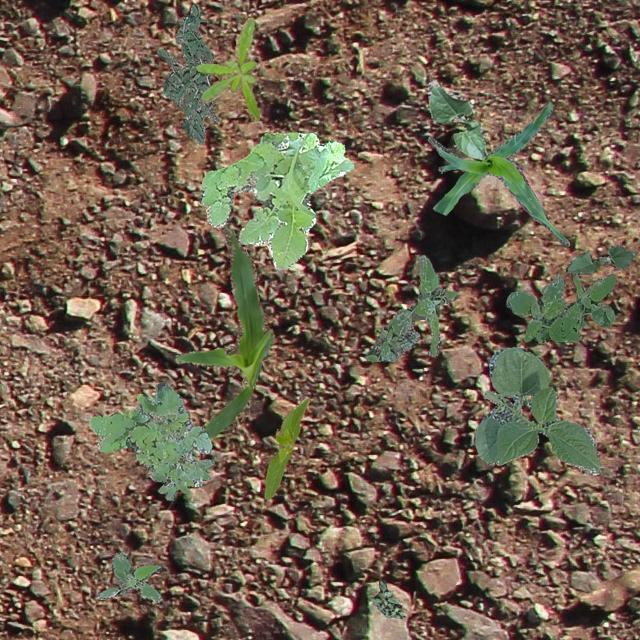crop: (174, 222, 274, 439), (426, 100, 568, 246), (474, 346, 600, 474), (426, 80, 486, 160), (264, 396, 308, 498), (564, 244, 634, 274)
weed: (198, 132, 352, 272), (88, 380, 210, 486), (363, 254, 458, 360), (156, 3, 218, 144), (506, 272, 616, 342), (196, 16, 258, 120), (96, 550, 162, 602), (148, 454, 212, 500), (370, 580, 406, 618)
